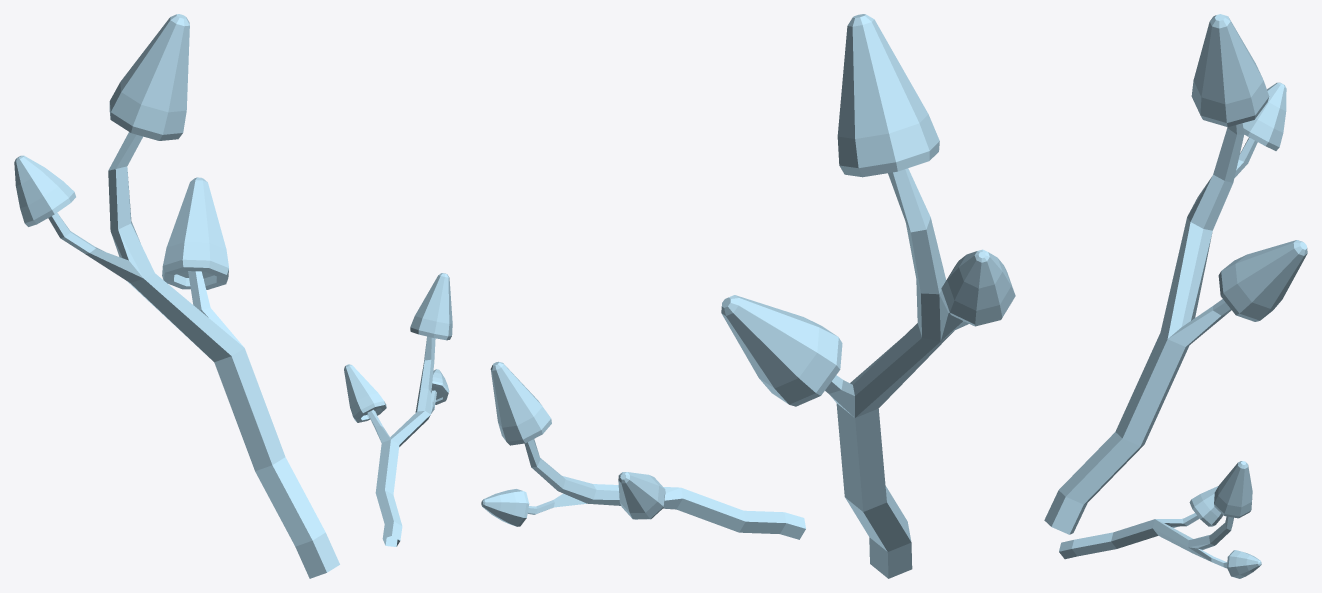
Rendered from Mushrooms_08.fbx.
3 views of the same model, side by side, from view 1: azimuth 30°, elevation 25°; view 2: azimuth 150°, elevation 25°; view 3: azimuth 270°, elevation 25° (orthographic). The views are drawn at different scales.
Visible parts, largest first — view 1: Mushrooms_08; view 2: Mushrooms_08; view 3: Mushrooms_08.
Part boxes in pixels (<box>): Mushrooms_08: <box>14,14,452,578</box>; Mushrooms_08: <box>481,14,1015,578</box>; Mushrooms_08: <box>1044,14,1307,578</box>.
Bounding box in the file's own units: 0.8944 × 0.515 × 1.06.
